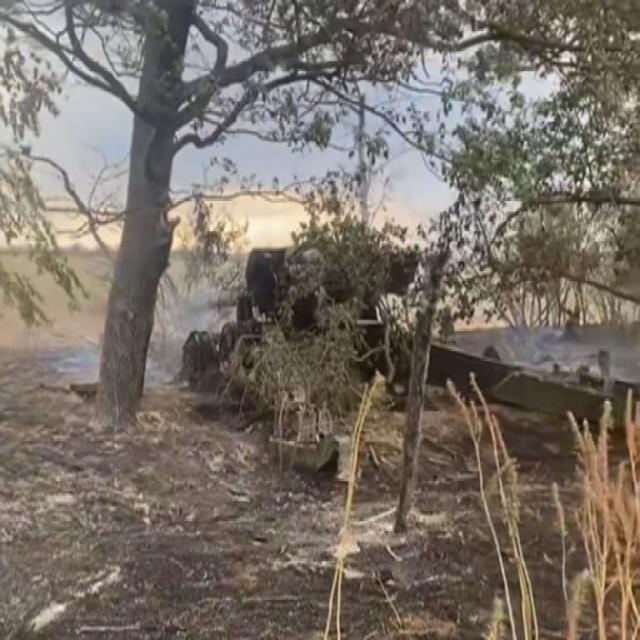ART: (175, 245, 639, 482)
